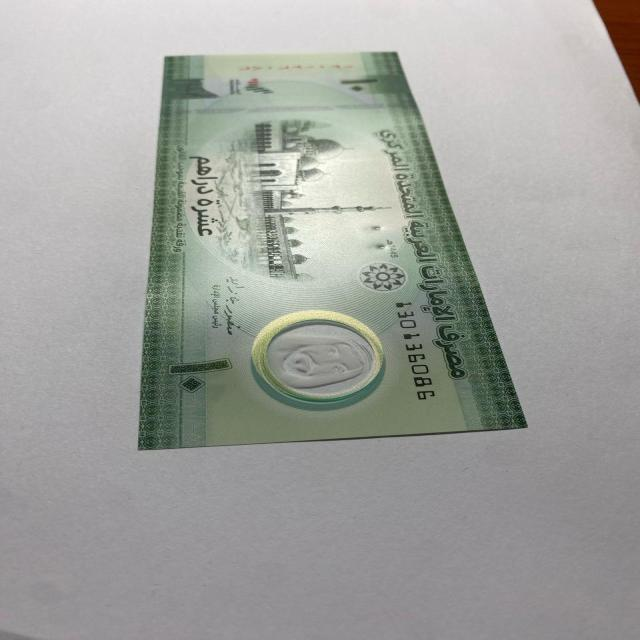10_AED: (138, 48, 535, 455)
